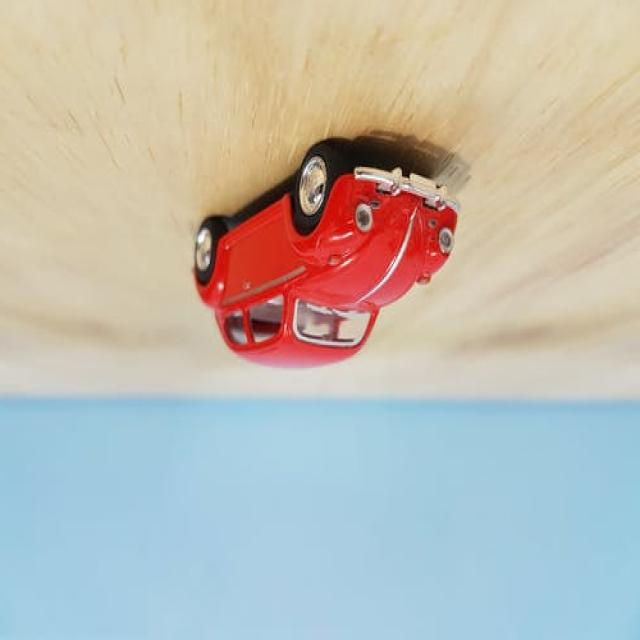Car: (193, 141, 461, 371)
